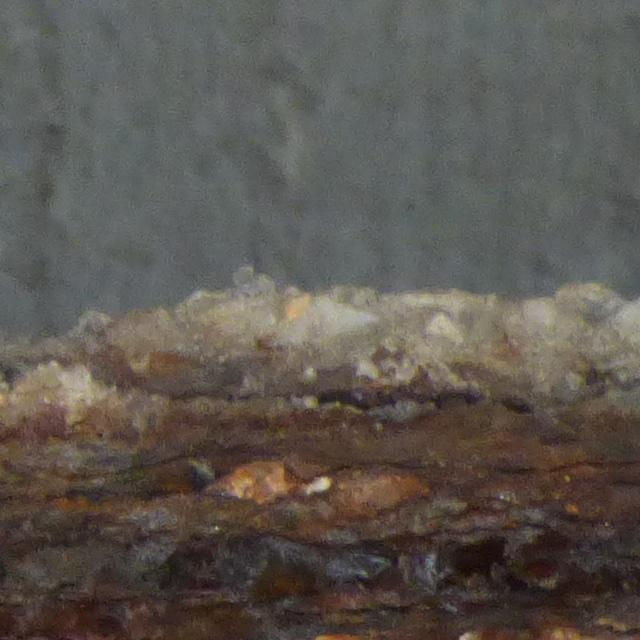Rust: (7, 373, 632, 636)
